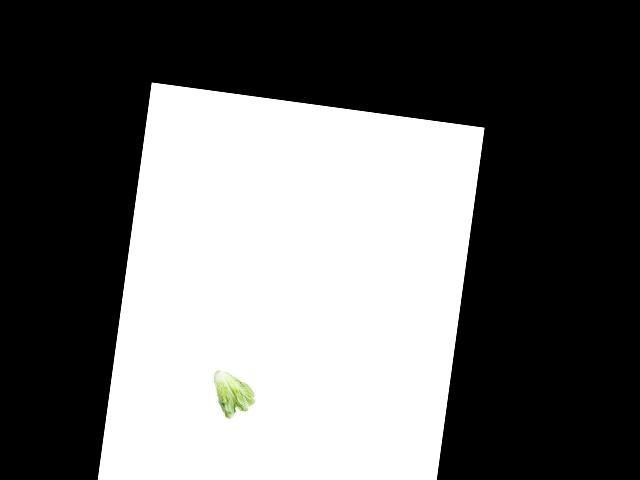lettuce: (207, 367, 264, 422)
